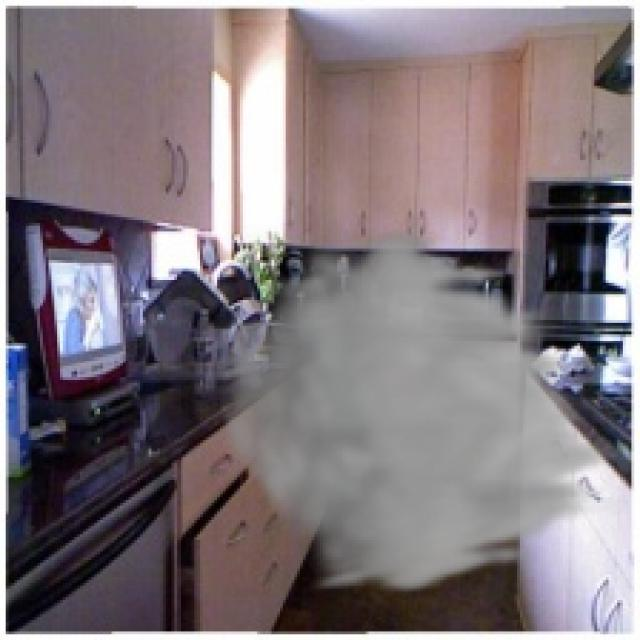smoke: (214, 223, 629, 597)
